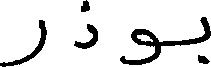X: (0, 15, 46, 66), (121, 24, 159, 66), (75, 0, 97, 53), (201, 12, 210, 66)
